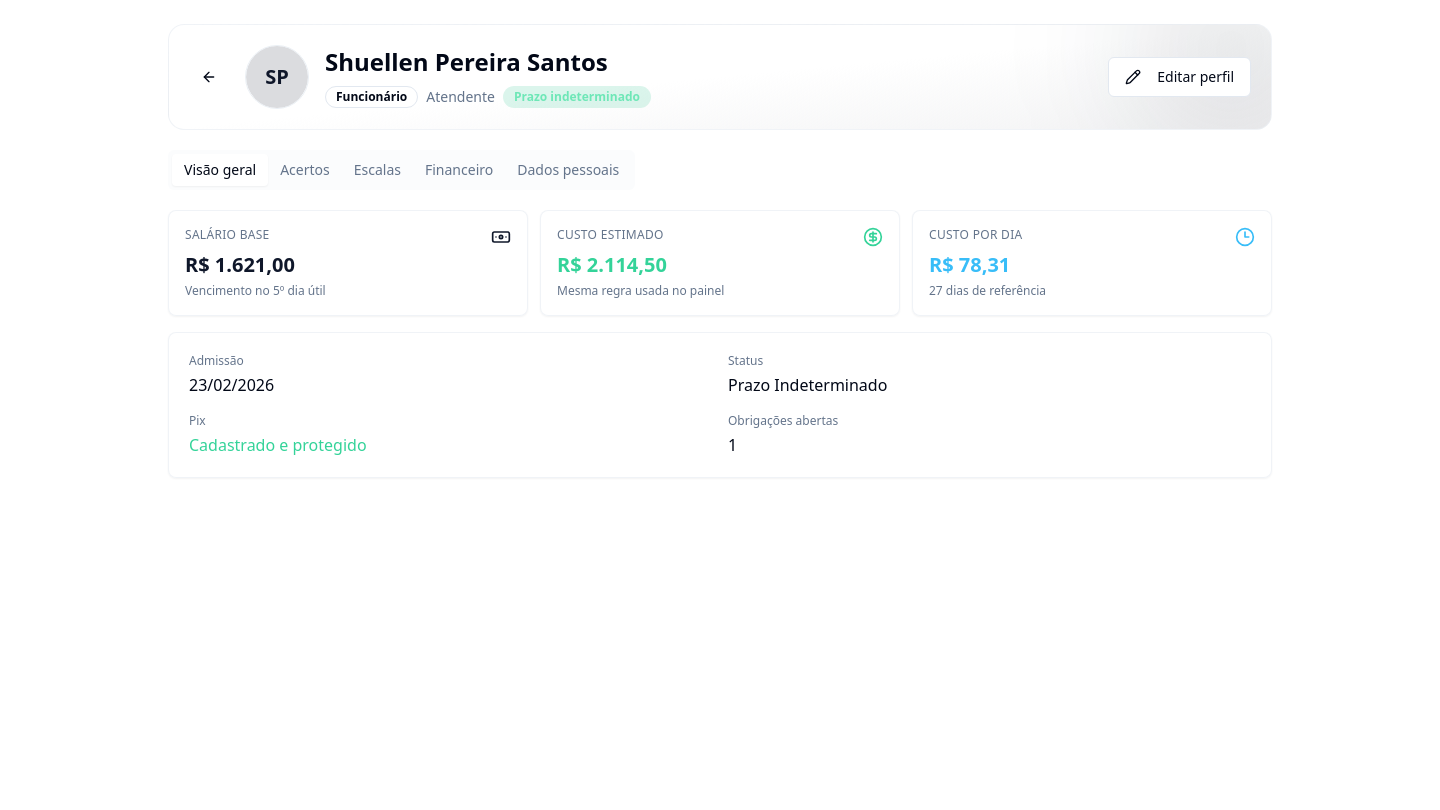
Test: EquipeDetalhePage › organiza o perfil em abas específicas e lista o acerto pendente
Expected: the text "Prazo indeterminado" next to "Atendente" is shown, [514, 88, 640, 105]
Expected: the tab "Visão geral" is shown, [172, 154, 268, 186]
Click the tab "Acertos" at {"x": 305, "y": 170}, box [268, 154, 342, 186]
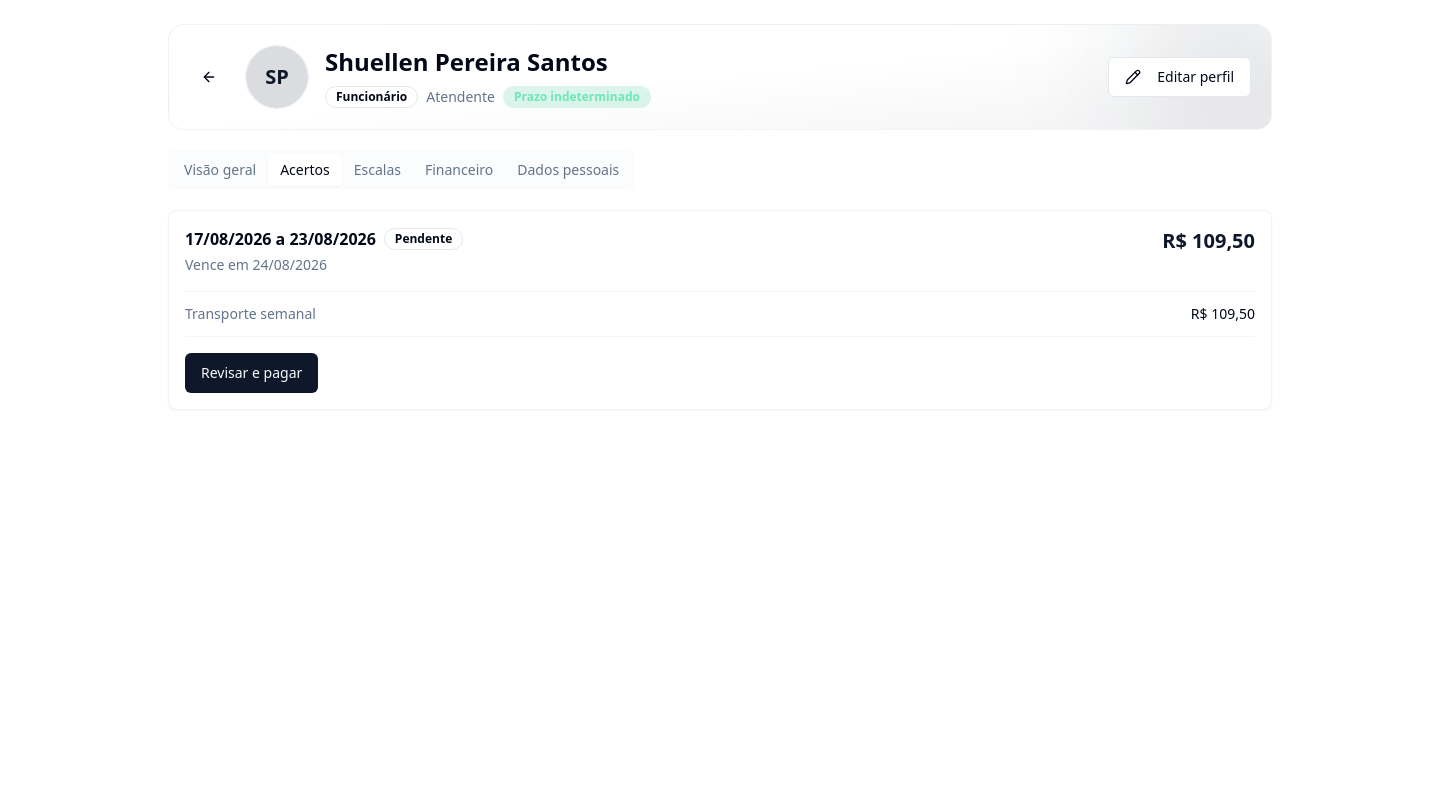
Expected: the text "Transporte semanal" is shown, [185, 304, 316, 324]
Expected: the button "Revisar e pagar" is shown, [185, 353, 318, 393]
Click the tab "Financeiro" at {"x": 459, "y": 170}, box [413, 154, 505, 186]
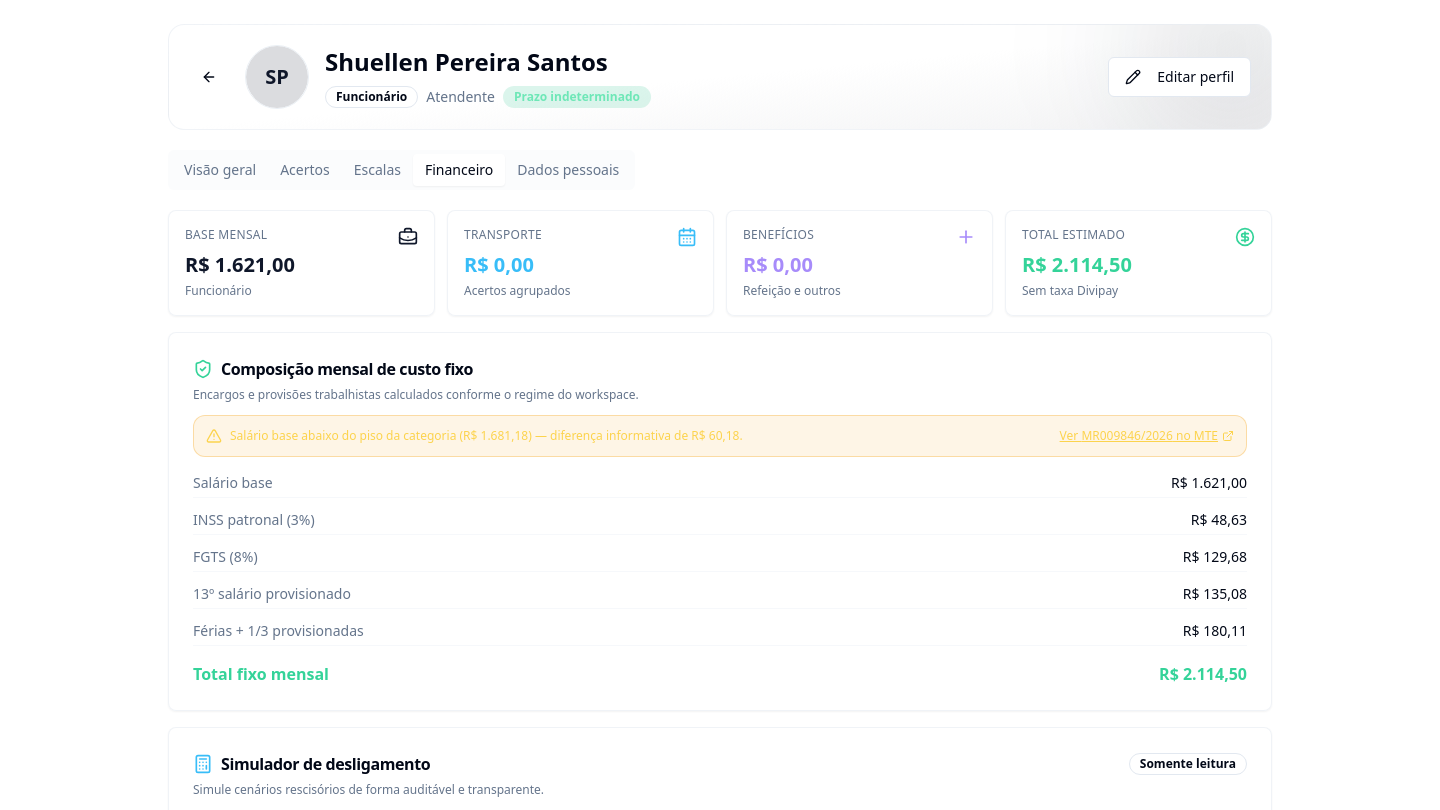
Expected: the text "R$ 2.114,50" below "Total estimado" is shown, [1022, 251, 1132, 278]
Expected: the heading "Simulador de desligamento" is shown, [193, 752, 430, 776]
